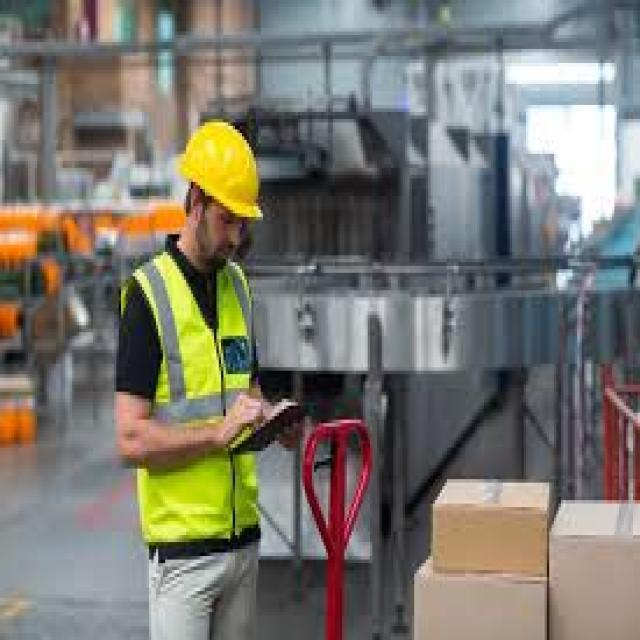Vest: (121, 260, 268, 534)
